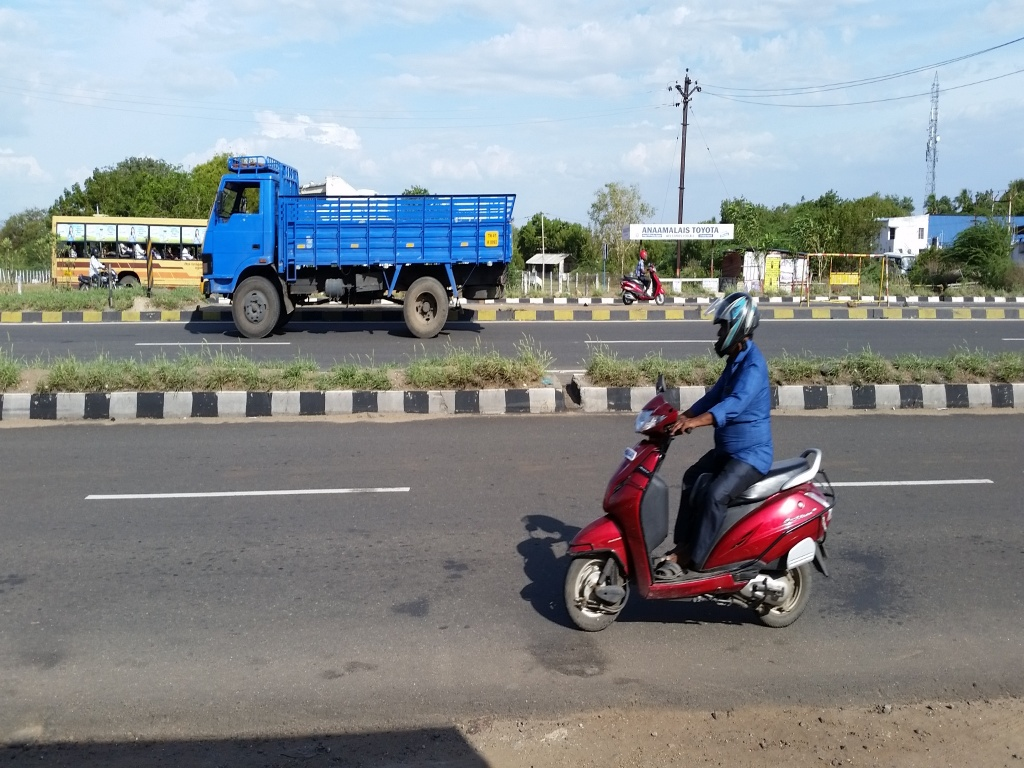biker: (542, 218, 866, 650), (615, 232, 675, 310)
helmet: (698, 273, 776, 368), (634, 246, 652, 263)
